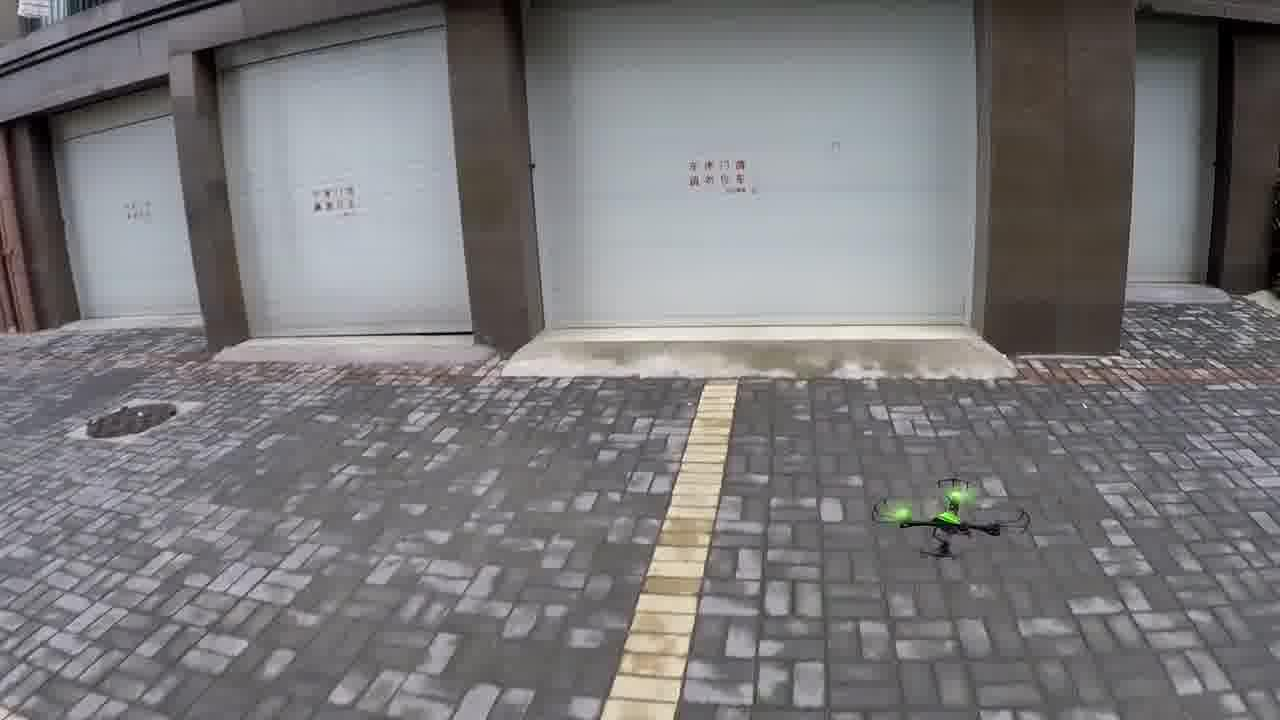drone: (859, 471, 1044, 570)
